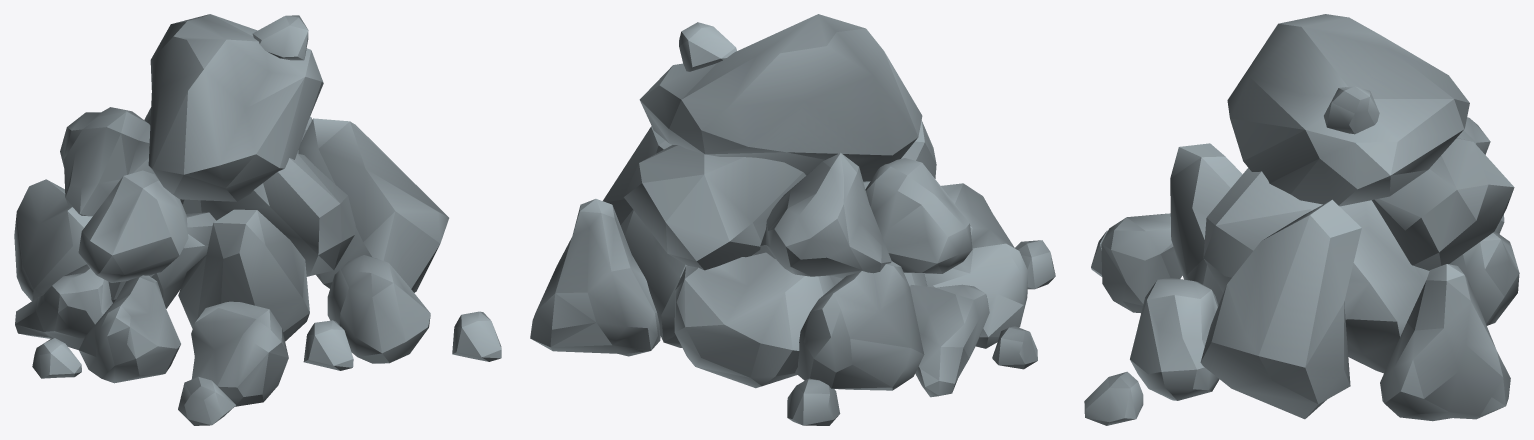
The model's file is stone_chunks_large.glb.
3 views of the same model, side by side, from view 1: azimuth 30°, elevation 25°; view 2: azimuth 150°, elevation 25°; view 3: azimuth 270°, elevation 25° (orthographic). The views are drawn at different scales.
Visible parts, largest first — view 1: Stone_Chunks_Large; view 2: Stone_Chunks_Large; view 3: Stone_Chunks_Large.
Part boxes in pixels (x1,y1,x2,y2): Stone_Chunks_Large: [14, 14, 501, 425]; Stone_Chunks_Large: [530, 14, 1055, 425]; Stone_Chunks_Large: [1084, 14, 1519, 425].
Size of the model in its own units: 0.9007 by 0.6463 by 0.8075.
1 material, 1 textured.
